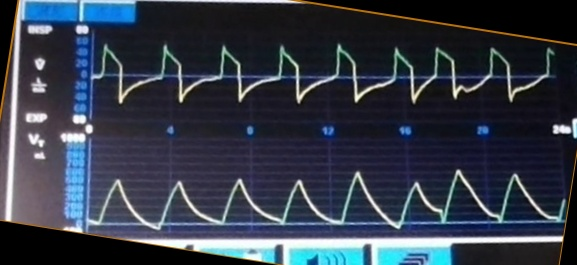Premature_cycling Flow: (94, 43, 555, 108)
Premature_cycling Volume: (93, 165, 564, 229)
